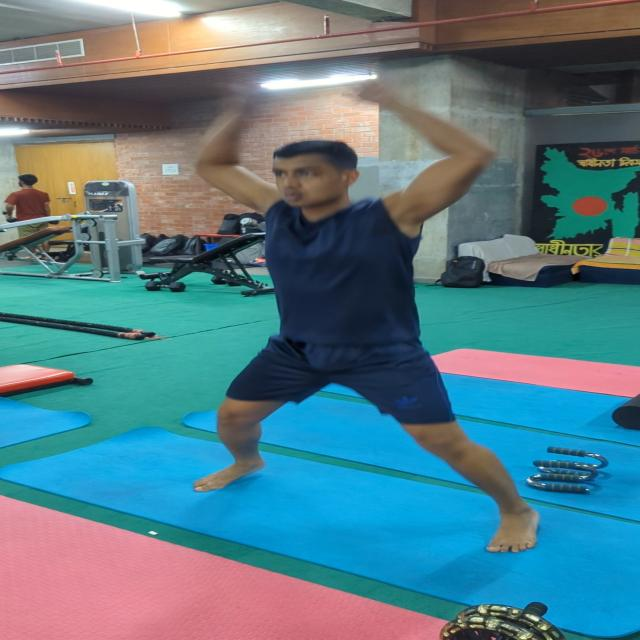Normal_JumpingJacks: (121, 80, 588, 572)
